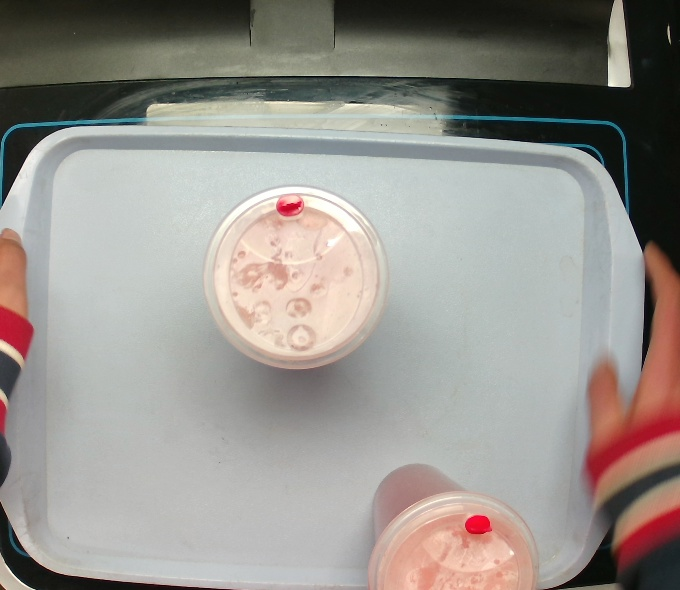wcq-XiGuaZhi: (199, 182, 391, 373), (364, 462, 541, 590)
